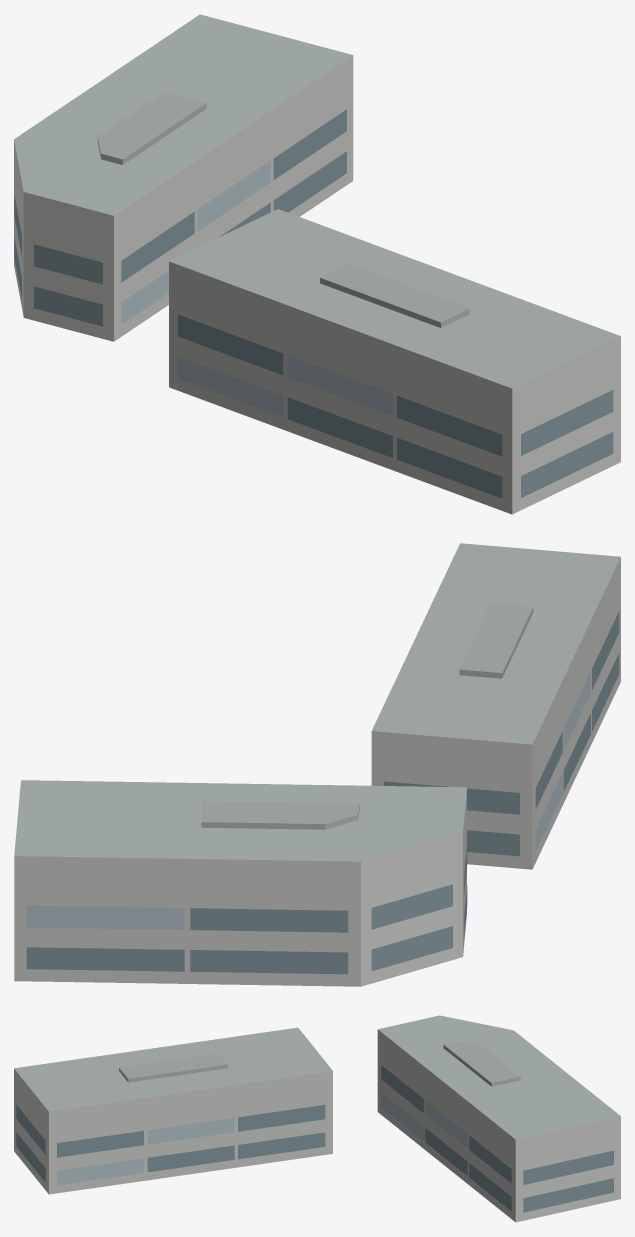
Rendered from named-apt-71d22c2a-5feb-41cb-a9cb-a3a8da357398.glb.
3 renders of one model, top to bottom at view 1: azimuth 30°, elevation 25°; view 2: azimuth 150°, elevation 25°; view 3: azimuth 270°, elevation 25°, orthographic. The views are drawn at different scales.
Visible parts, largest first — view 1: named-apt-71d22c2a-5feb-41cb-a9cb-a3a8da357398; view 2: named-apt-71d22c2a-5feb-41cb-a9cb-a3a8da357398; view 3: named-apt-71d22c2a-5feb-41cb-a9cb-a3a8da357398.
Part boxes in pixels (box(x1,y1,x2,y2)): named-apt-71d22c2a-5feb-41cb-a9cb-a3a8da357398: box(14, 14, 620, 514); named-apt-71d22c2a-5feb-41cb-a9cb-a3a8da357398: box(14, 543, 620, 986); named-apt-71d22c2a-5feb-41cb-a9cb-a3a8da357398: box(14, 1015, 620, 1222).
Bounding box in the file's own units: 29.43 × 9.56 × 60.76.
